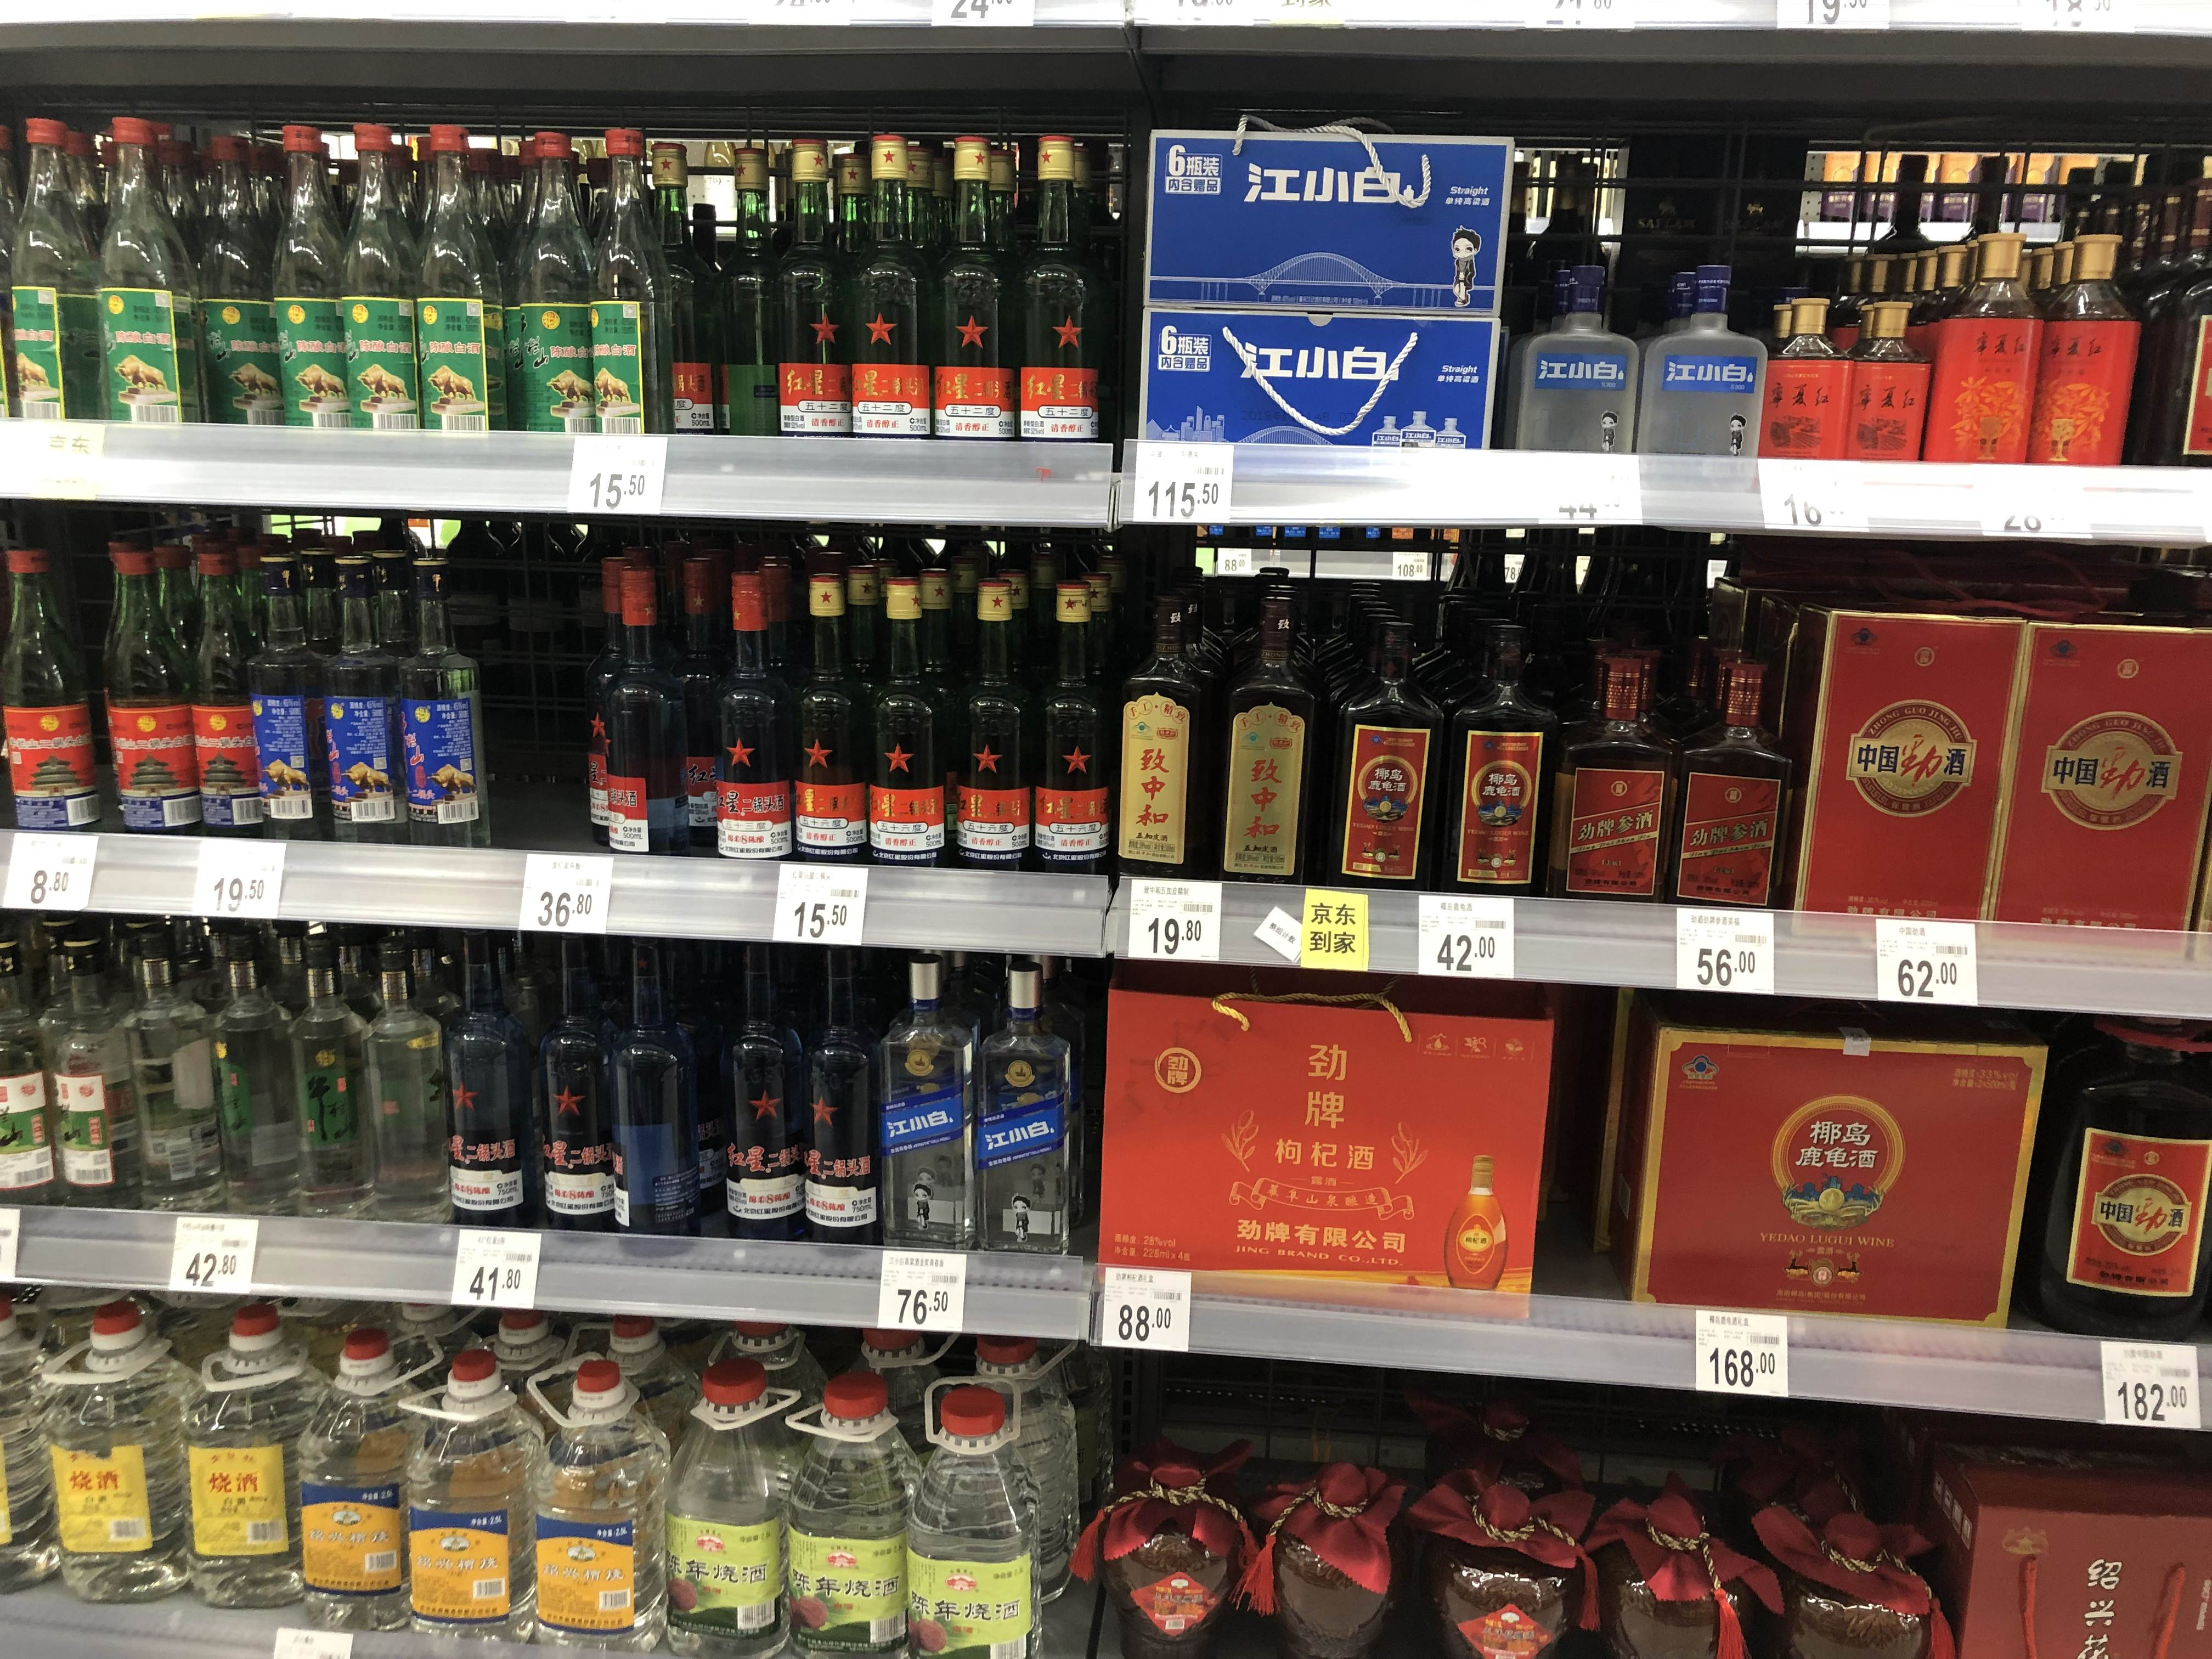bottle: (1784, 598, 2209, 960), (49, 1300, 202, 1610), (519, 1359, 664, 1640), (185, 1307, 317, 1610), (404, 1356, 549, 1628), (780, 1377, 914, 1650), (660, 1364, 787, 1647), (296, 1335, 420, 1624), (92, 122, 199, 453), (1322, 596, 1440, 892), (904, 1387, 1031, 1656), (1212, 573, 1320, 889), (1423, 624, 1547, 899), (597, 934, 704, 1249), (251, 129, 354, 453), (1665, 657, 1789, 925), (193, 132, 294, 451), (1007, 132, 1103, 467), (312, 125, 408, 457), (968, 967, 1073, 1269), (103, 540, 207, 840), (1111, 572, 1211, 885), (590, 132, 688, 451), (408, 129, 502, 458), (0, 119, 96, 441), (33, 917, 138, 1211), (507, 132, 603, 453), (1559, 638, 1670, 911), (1503, 267, 1648, 476), (2013, 232, 2135, 477), (115, 920, 223, 1197), (878, 960, 977, 1258), (0, 544, 98, 843), (352, 934, 453, 1220), (439, 931, 533, 1234), (845, 138, 932, 460), (925, 143, 1012, 464), (718, 939, 806, 1249), (319, 556, 415, 843), (183, 544, 275, 842), (1928, 228, 2040, 474), (798, 946, 885, 1251), (533, 938, 620, 1241), (246, 545, 334, 842), (279, 936, 373, 1215), (3, 1312, 98, 1586), (599, 566, 686, 861), (766, 146, 850, 453), (204, 931, 294, 1208), (1029, 584, 1113, 884), (791, 572, 873, 877), (653, 563, 737, 861), (399, 554, 484, 845), (637, 152, 719, 450), (866, 591, 948, 884), (954, 586, 1035, 884), (718, 573, 796, 875), (711, 157, 789, 451), (2135, 171, 2210, 476), (0, 932, 63, 1206)
box: (1141, 312, 1512, 502), (1144, 124, 1514, 310), (1841, 301, 1926, 460)
bucket: (2017, 1007, 2212, 1338), (1639, 267, 1757, 469), (1750, 295, 1841, 467)
others: (1099, 979, 1557, 1321), (1630, 1026, 2045, 1335), (1951, 1432, 2210, 1657), (1090, 1457, 1258, 1659), (1413, 1480, 1599, 1659), (1742, 1504, 1956, 1659), (1606, 1486, 1757, 1659), (1270, 1466, 1402, 1659)
